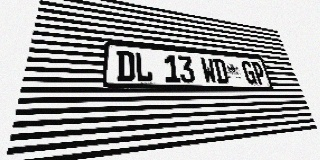1: (163, 54, 181, 83)
3: (178, 55, 195, 83)
D: (117, 50, 135, 82), (212, 58, 230, 84)
G: (241, 61, 257, 84)
L: (135, 52, 153, 82)
P: (251, 62, 267, 84)
W: (200, 57, 217, 83)
